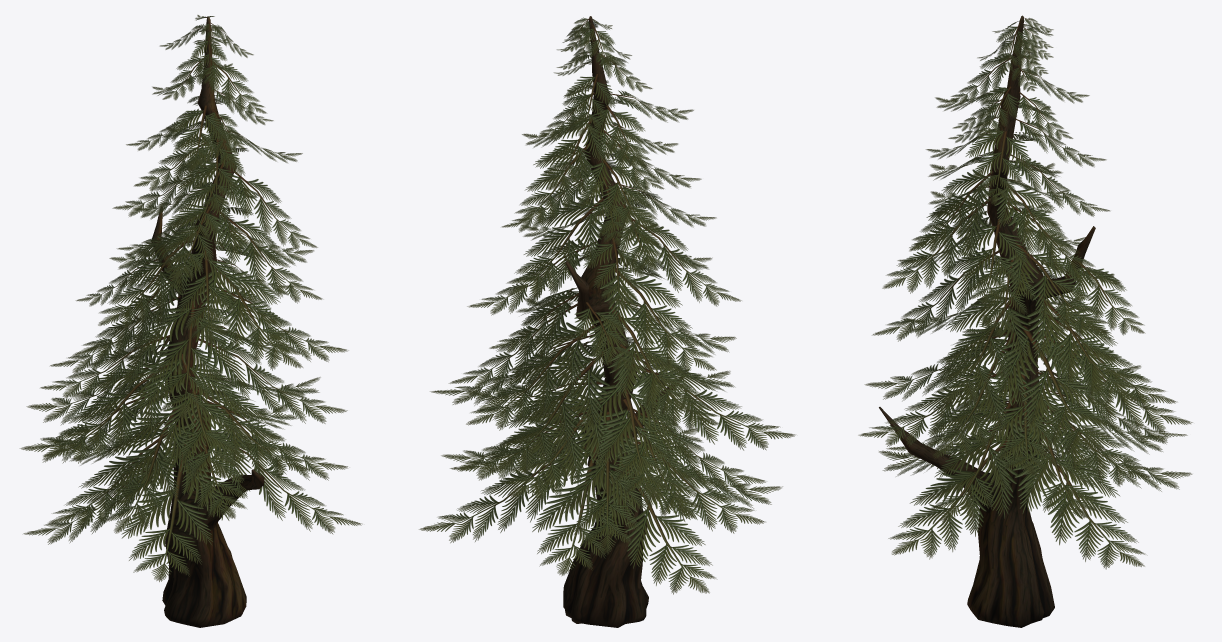
3 renders of one model, left to right at view 1: azimuth 30°, elevation 25°; view 2: azimuth 150°, elevation 25°; view 3: azimuth 270°, elevation 25°, orthographic.
Parts seen in each view (by area): view 1: Tree; view 2: Tree; view 3: Tree.
Boxes of the visible parts, x1,y1,x2,y2 form: Tree: (20, 15, 362, 627); Tree: (419, 16, 795, 627); Tree: (858, 15, 1192, 627).
Size of the model in its own units: 5.42 by 9.24 by 5.09.
Materials: 1 (1 with a texture image).
